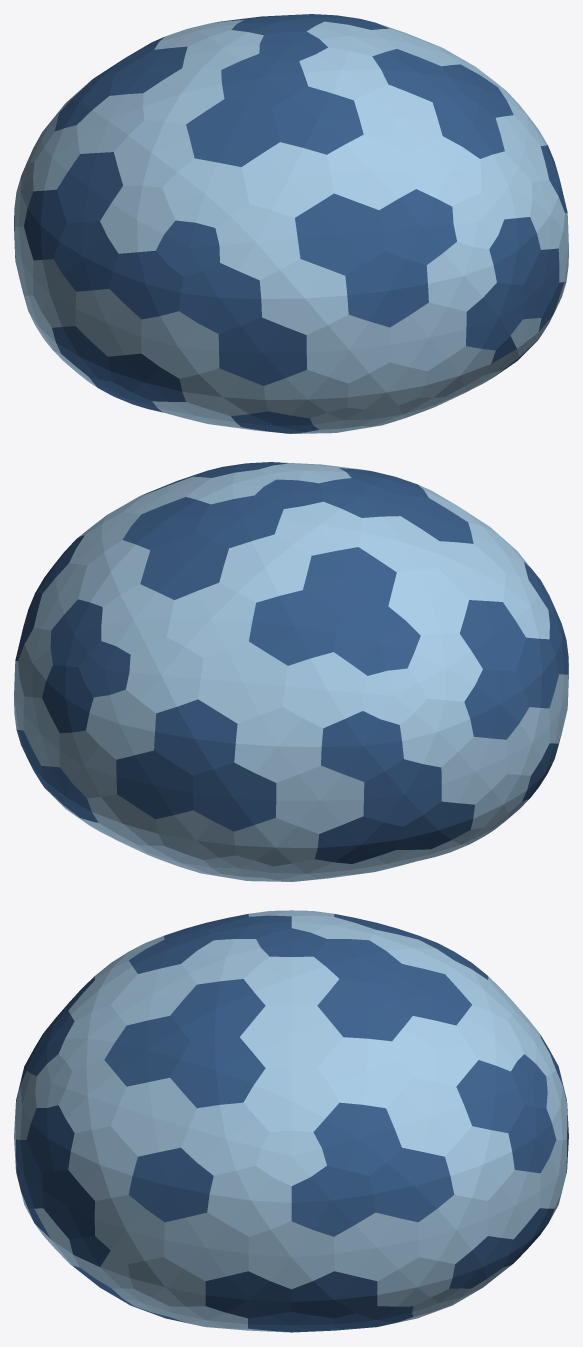
Rendered from StressBall.fbx.
The picture shows the model from 3 angles, top to bottom: view 1: azimuth 30°, elevation 25°; view 2: azimuth 150°, elevation 25°; view 3: azimuth 270°, elevation 25°; orthographic projection.
Visible parts, largest first — view 1: Cube; view 2: Cube; view 3: Cube.
Boxes of the visible parts, bbox=[...] form: Cube: bbox=[14, 14, 568, 433]; Cube: bbox=[14, 462, 568, 881]; Cube: bbox=[14, 910, 568, 1332].
Size of the model in its own units: 0.1553 by 0.0993 by 0.1534.
